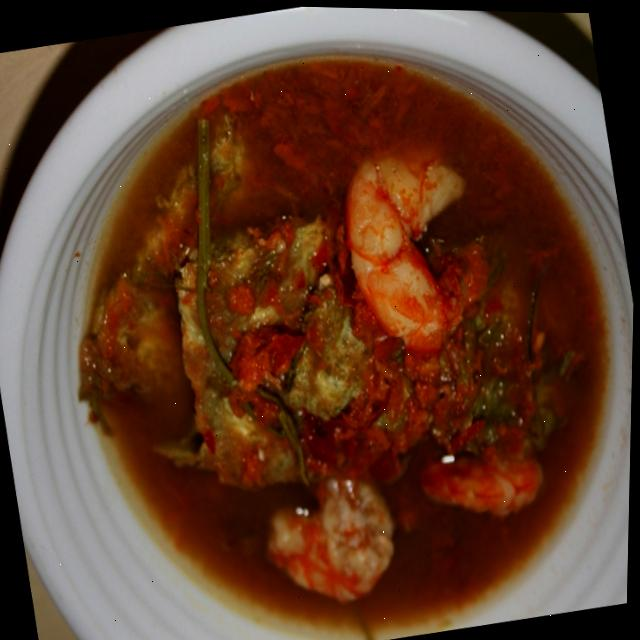汤锅炖物: (0, 12, 640, 640)
